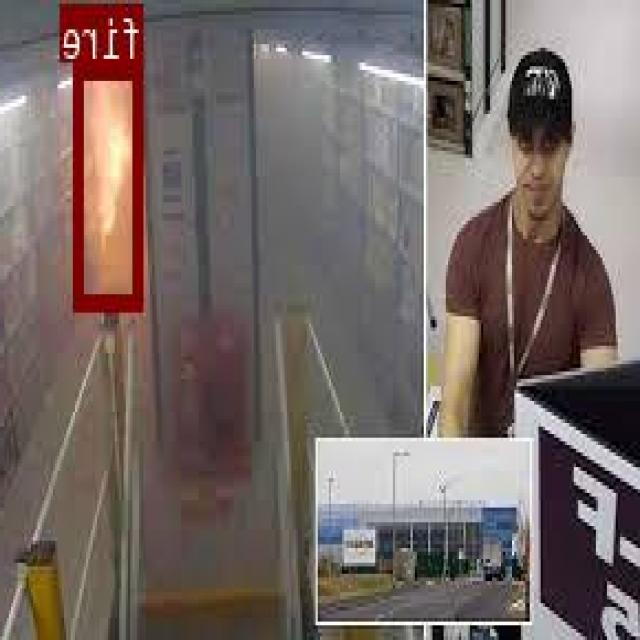fire: (77, 61, 145, 309)
